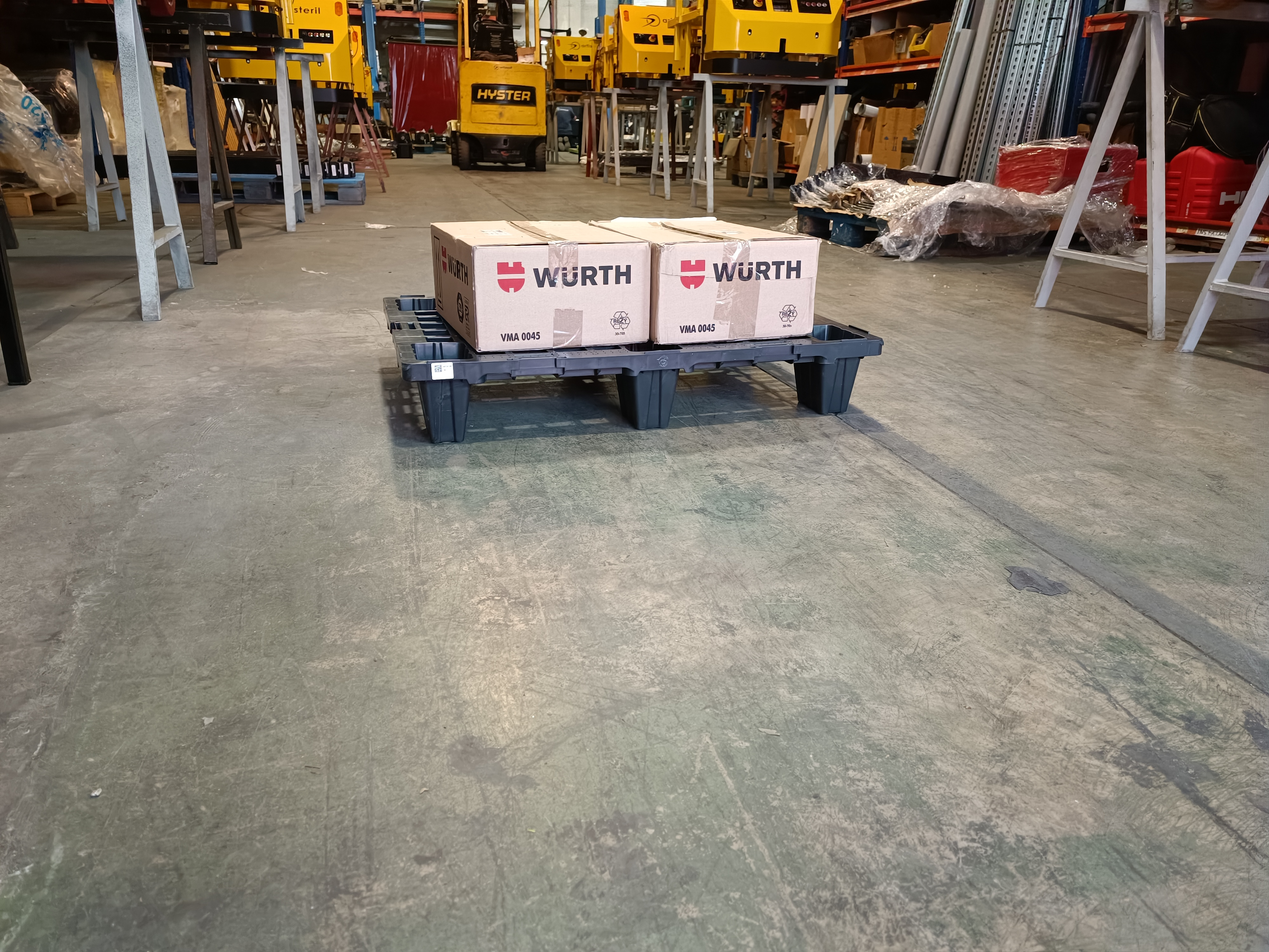block: (412, 380, 480, 452), (615, 368, 681, 434), (792, 358, 867, 415)
front: (411, 332, 912, 448)
hole pallet: (477, 369, 638, 431), (674, 356, 819, 416)
